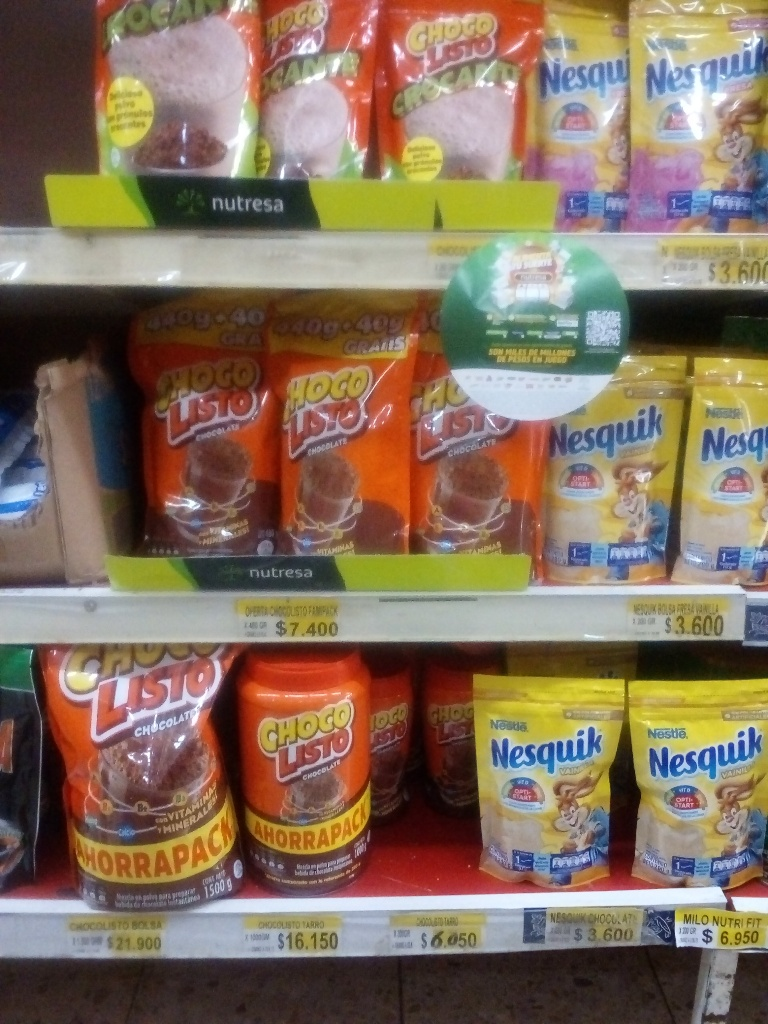COL0170102DYP25000: (359, 0, 540, 197)
COL0170102DYP50000: (89, 1, 257, 187)
COL0170103DYP1,500: (41, 646, 249, 907)
COL0170103TRR00100: (229, 636, 377, 900)
COL0170103TRR30000: (363, 664, 415, 819)
COL0170305DYP20000: (541, 2, 629, 230)
COL0170306DYP20000: (539, 356, 685, 585)
